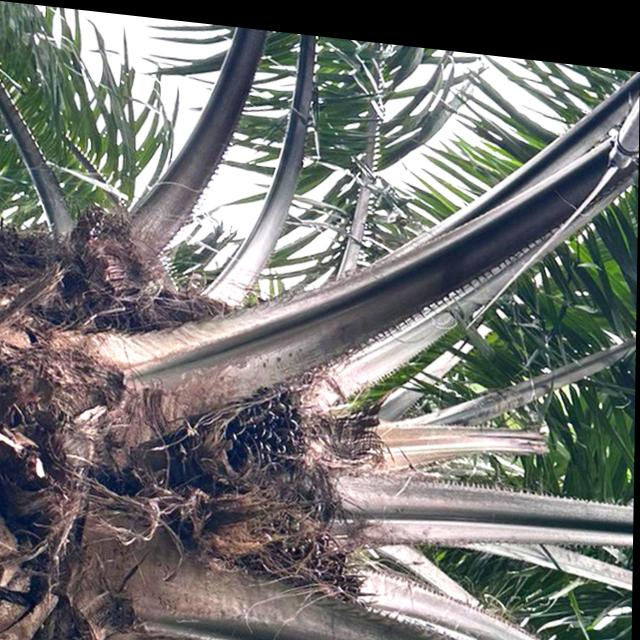unripe: (204, 366, 321, 498)
